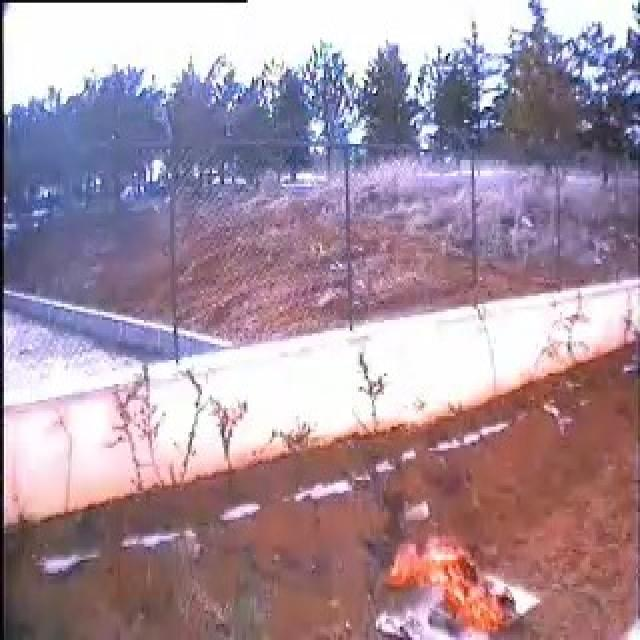fire: (386, 543, 514, 635)
